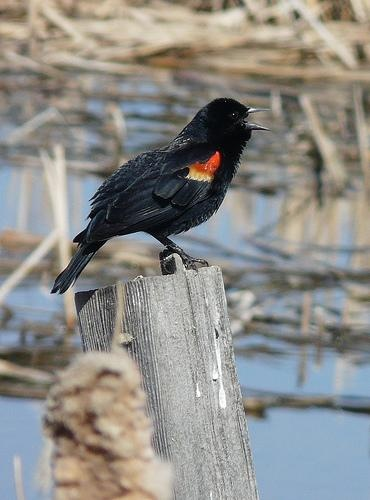bird: (48, 96, 279, 297)
